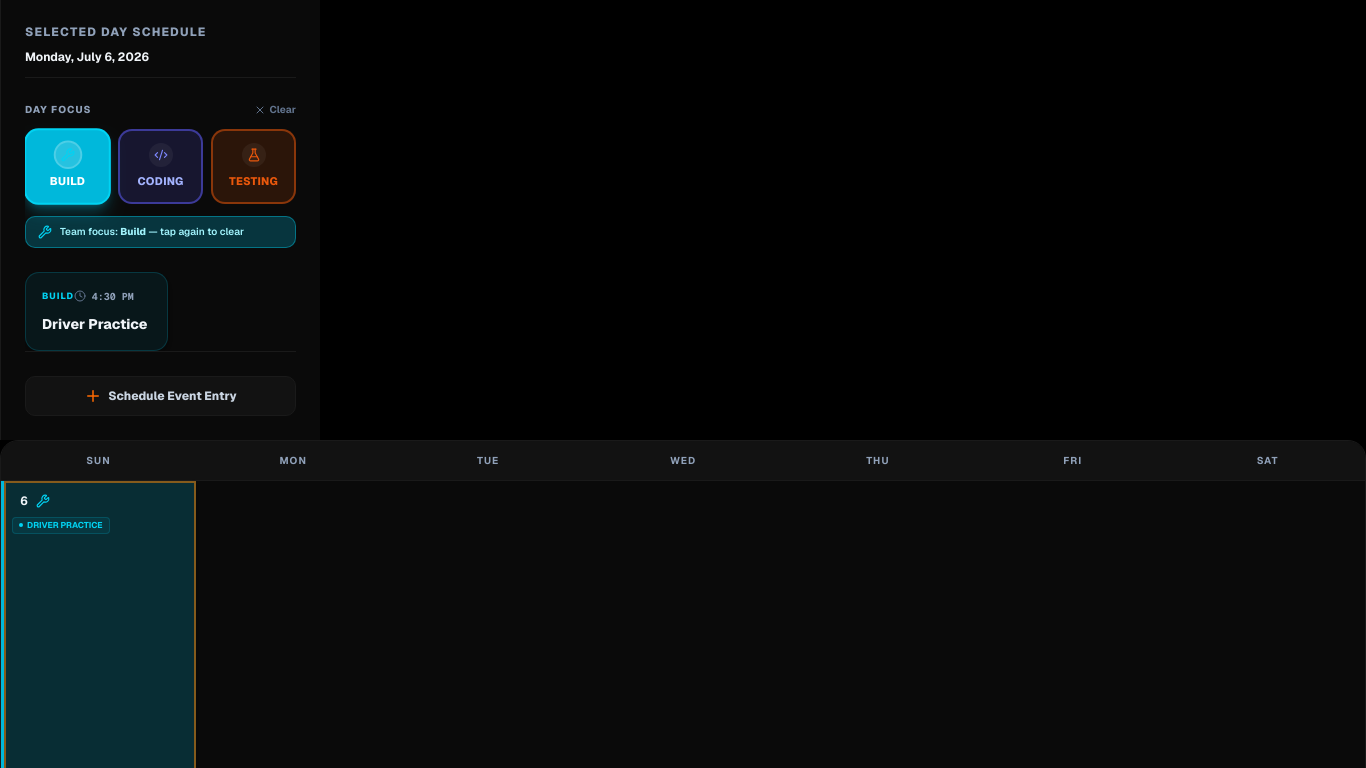
Test: calendar day plans UI › changes the icon to Testing and clears it on clear
The width and height of the screenshot is (1366, 768).
Expected: the picture named "Build" is shown, left=36, top=494, right=50, bottom=508
Click the button "Testing" at (254, 166), box left=211, top=129, right=296, bottom=204
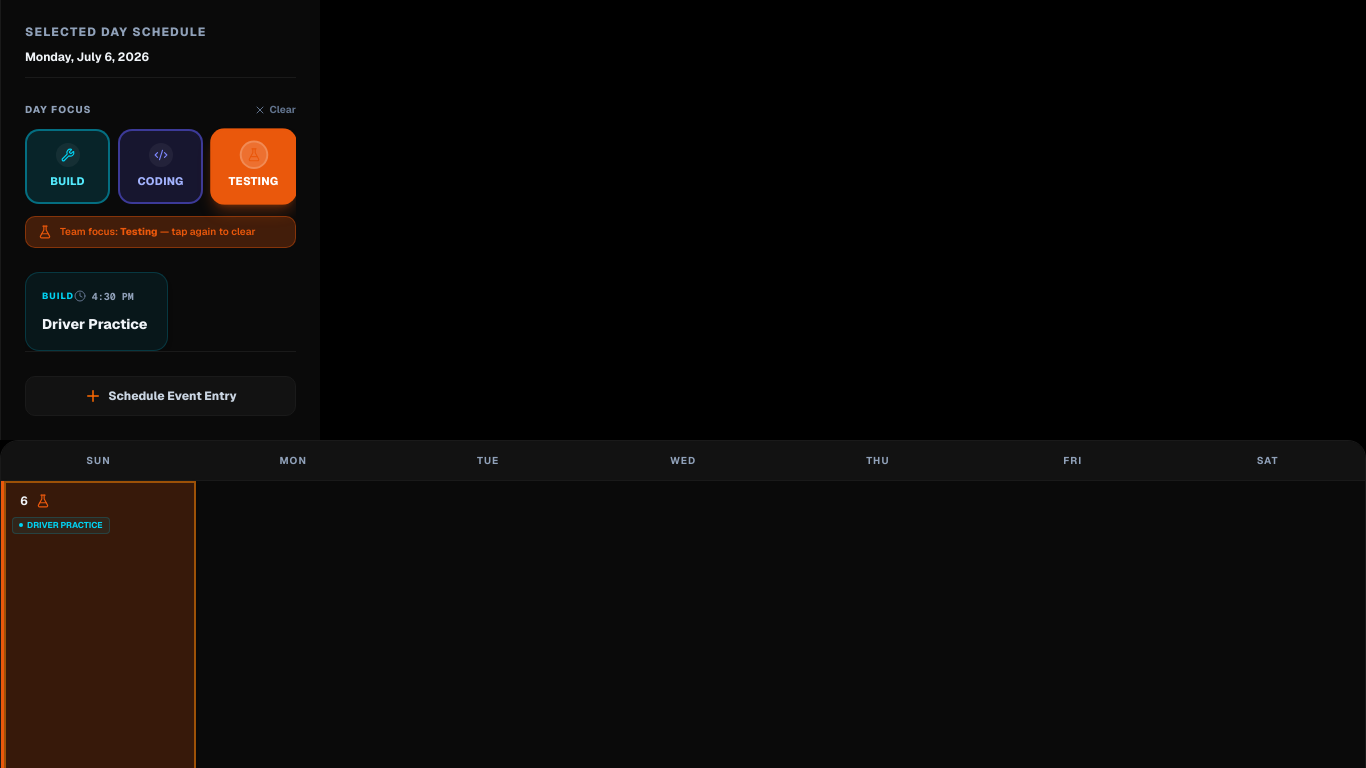
Expected: the picture named "Build" is shown, left=36, top=494, right=50, bottom=508
Click the button "Clear" at (275, 110), box left=254, top=102, right=296, bottom=117
(page scrolled)
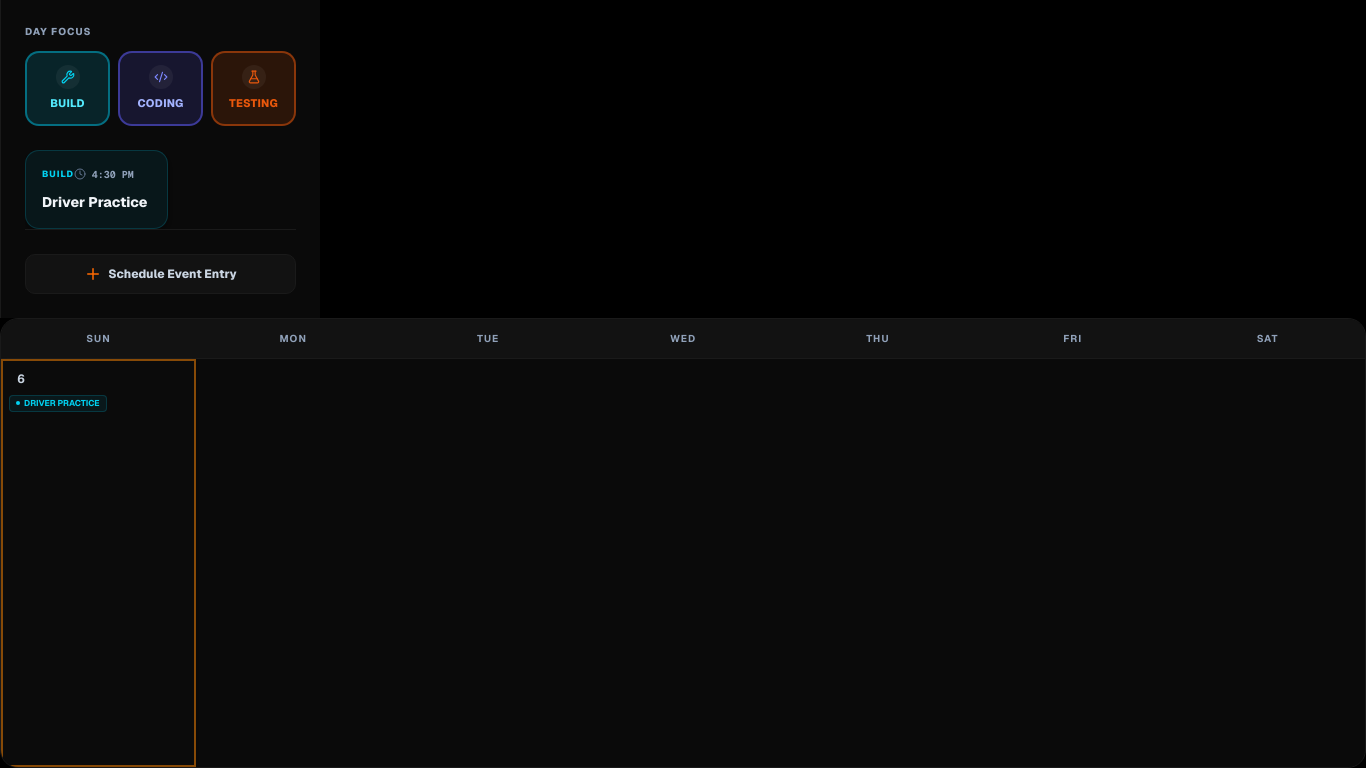
Expected: the button "6 Driver Practice" is shown, left=1, top=358, right=196, bottom=766
Expected: the picture named "Testing" is gone
